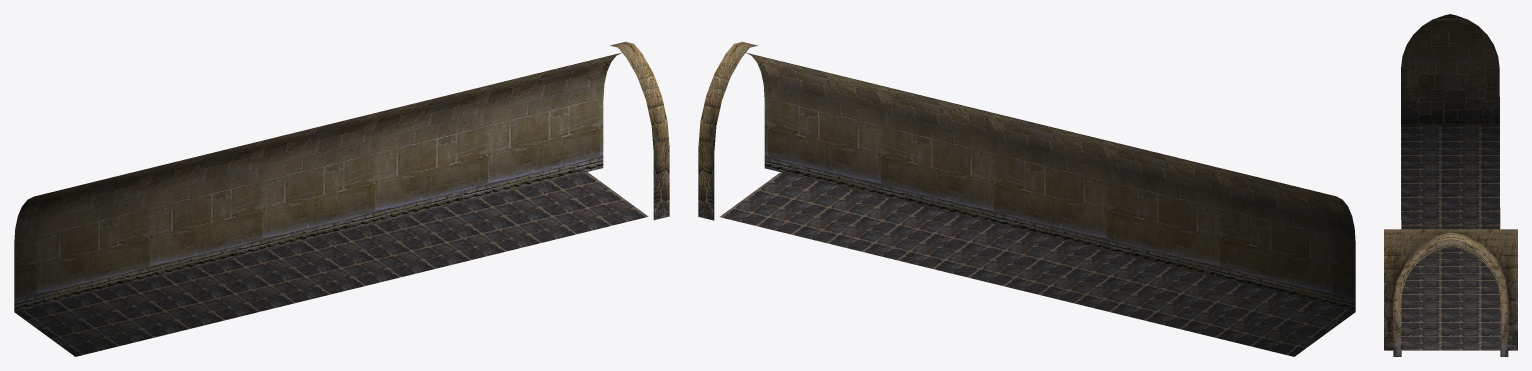
The model's file is M7Z1_Spawn_Tunnel1.glb.
3 views of the same model, side by side, from view 1: azimuth 30°, elevation 25°; view 2: azimuth 150°, elevation 25°; view 3: azimuth 270°, elevation 25° (orthographic). The views are drawn at different scales.
Parts seen in each view (by area): view 1: M7Z1_SPAWN_TUNNEL1; view 2: M7Z1_SPAWN_TUNNEL1; view 3: M7Z1_SPAWN_TUNNEL1.
Boxes of the visible parts, <box> form: M7Z1_SPAWN_TUNNEL1: <box>14,41,669,356</box>; M7Z1_SPAWN_TUNNEL1: <box>698,41,1355,356</box>; M7Z1_SPAWN_TUNNEL1: <box>1384,14,1517,356</box>.
Size of the model in its own units: 16.45 by 4 by 4.
Materials: 4 (4 with a texture image).
